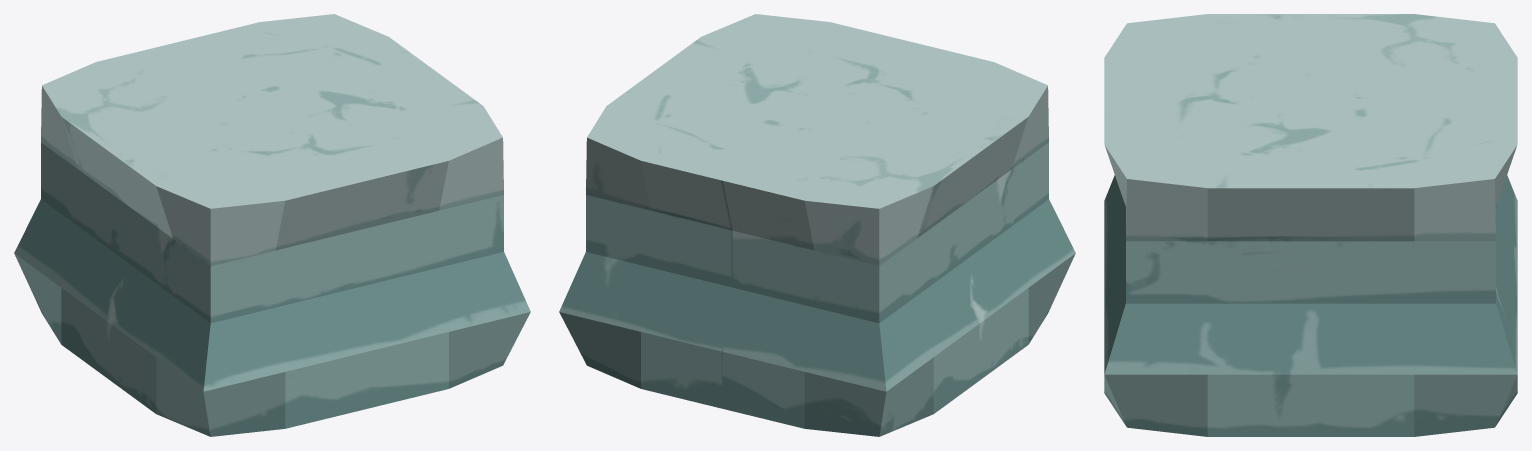
File: ChunkyRock.fbx
3 views of the same model, side by side, from view 1: azimuth 30°, elevation 25°; view 2: azimuth 150°, elevation 25°; view 3: azimuth 270°, elevation 25° (orthographic). The views are drawn at different scales.
Visible parts, largest first — view 1: polySurface1; view 2: polySurface1; view 3: polySurface1.
Boxes of the visible parts, left/top/right/bottom form: polySurface1: left=14, top=14, right=530, bottom=436; polySurface1: left=559, top=14, right=1075, bottom=436; polySurface1: left=1104, top=14, right=1517, bottom=436.
Size of the model in its own units: 2.99 by 1.99 by 3.
